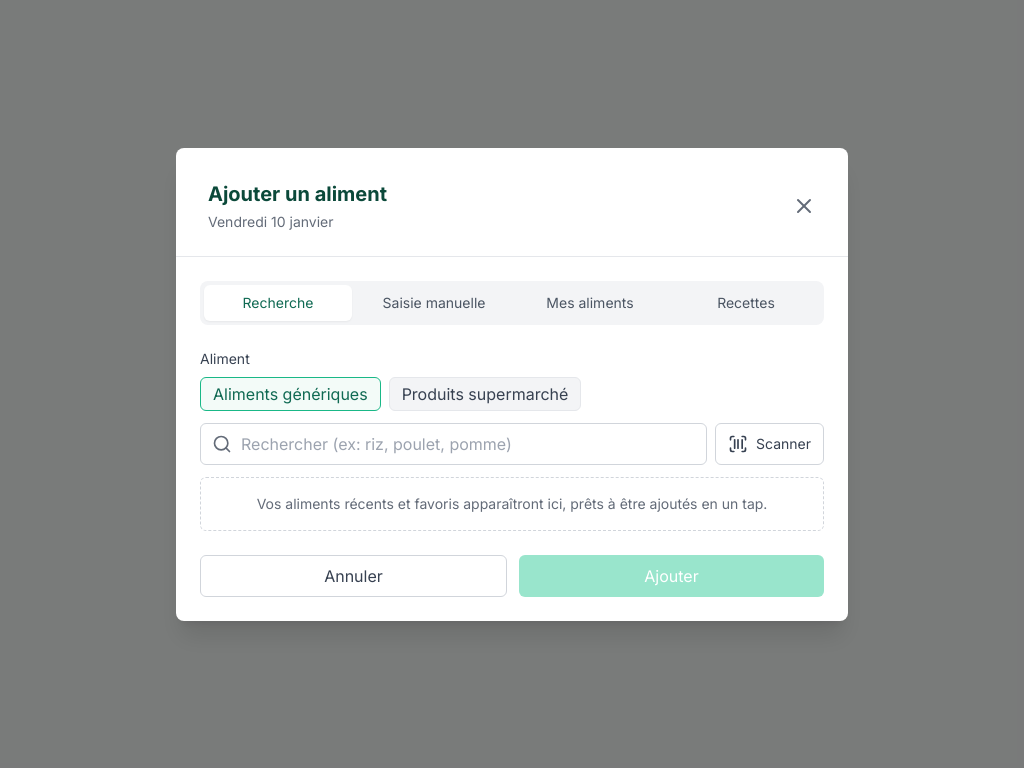
it: AddEntryModal › remonte en haut de la fenêtre pour montrer la confirmation
Click the tab "Saisie manuelle" at (434, 302), box [360,284,508,320]
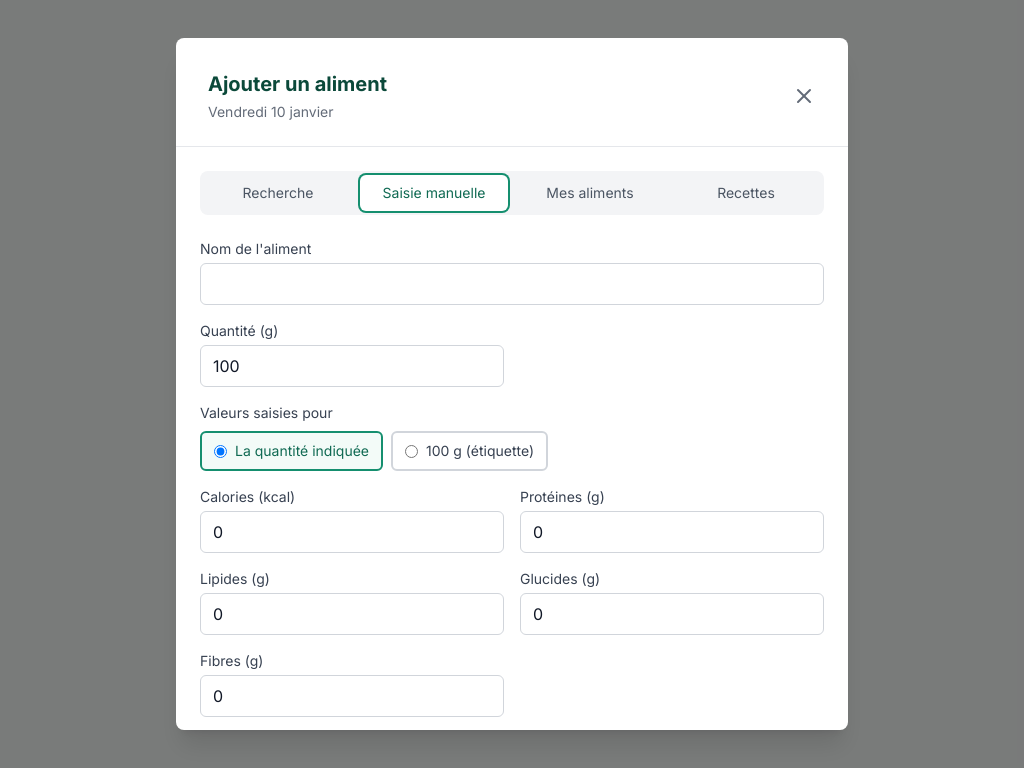
Type "  Salade maison " into the field labelled "Nom de l'aliment" at (512, 284), box [200,263,824,305]
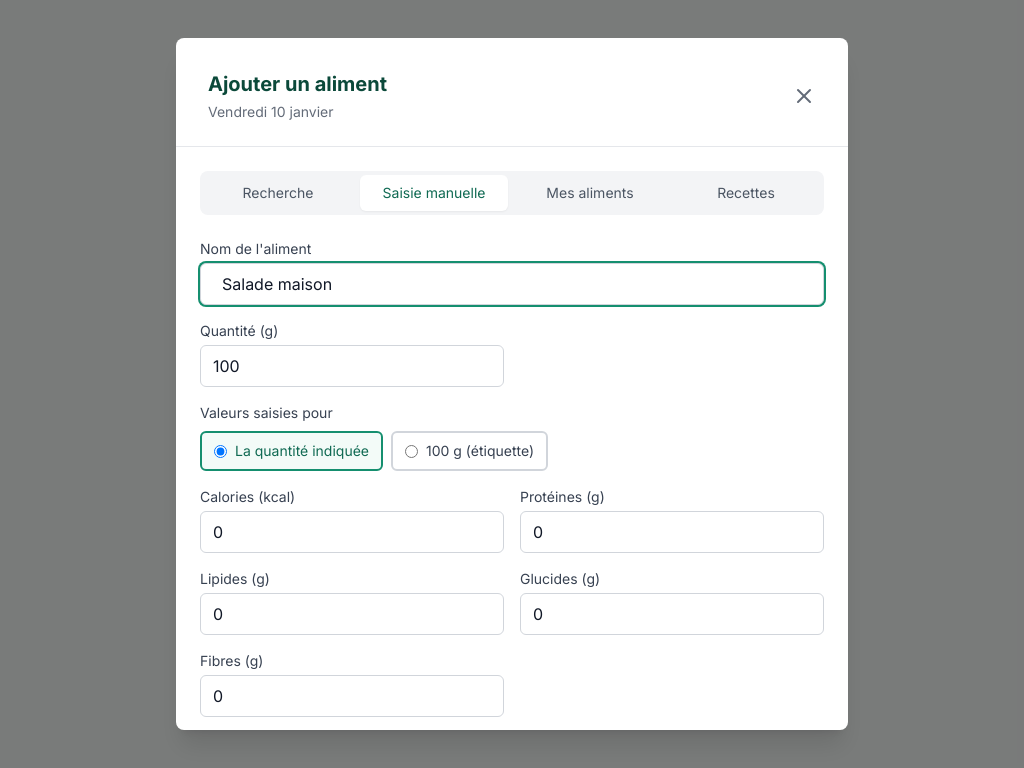
Replace the text in the number field labelled "Quantité (g)" with "250" at (352, 366), box [200,345,504,387]
Replace the text in the number field labelled "Calories (kcal)" with "320" at (352, 532), box [200,511,504,553]
Replace the text in the number field labelled "Protéines (g)" with "12.5" at (672, 532), box [520,511,824,553]
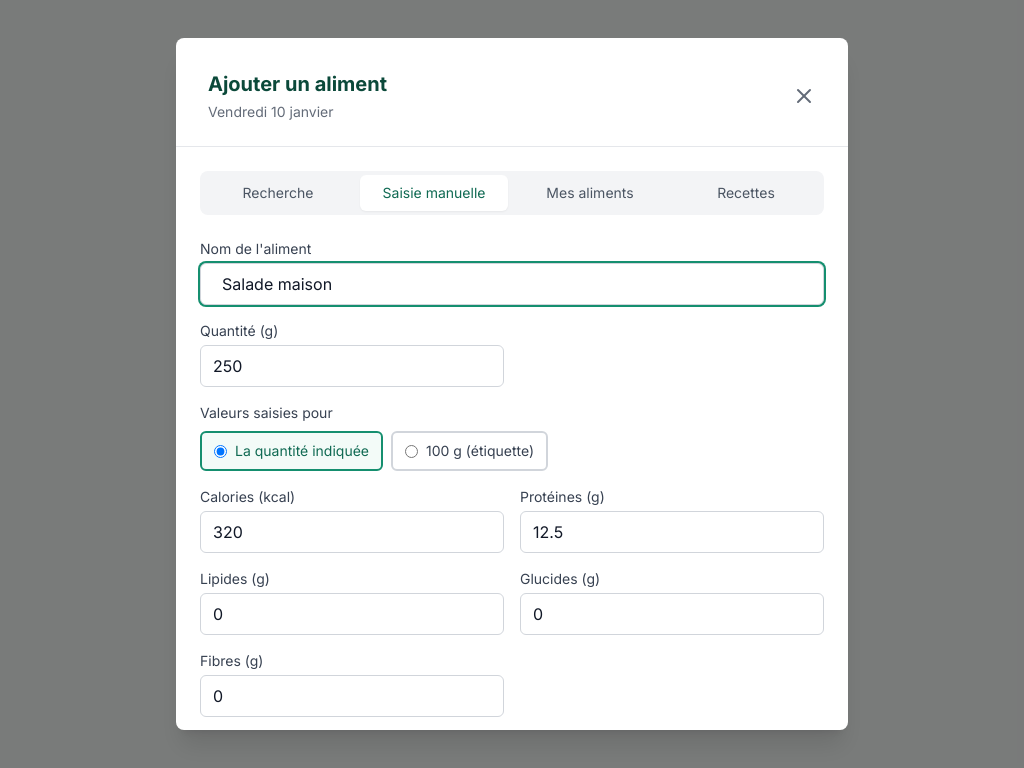
Replace the text in the number field labelled "Lipides (g)" with "18" at (352, 614), box [200,593,504,635]
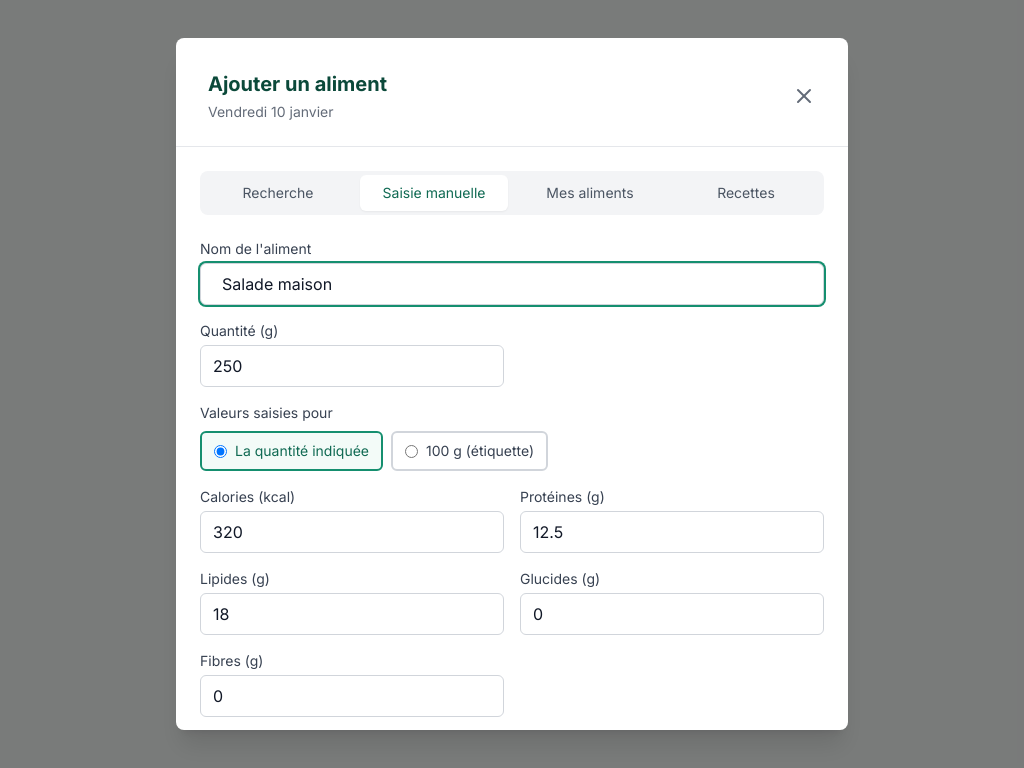
Replace the text in the number field labelled "Glucides (g)" with "25" at (672, 614), box [520,593,824,635]
(page scrolled)
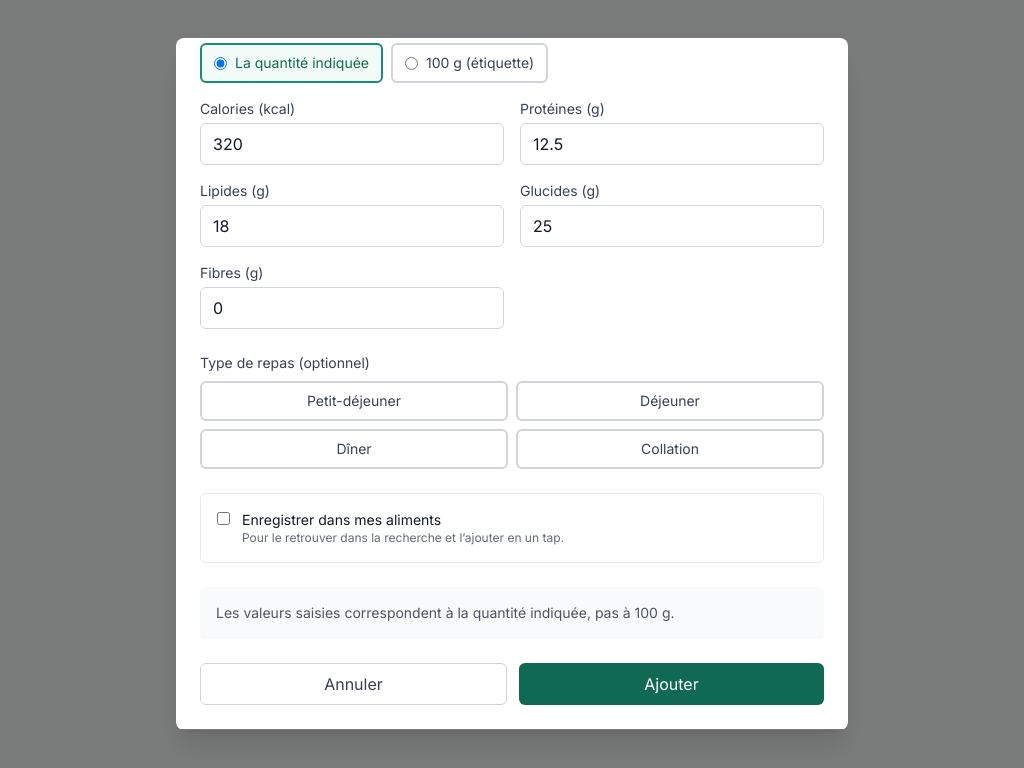
Click the button "Ajouter" at (672, 684), box [519,663,824,705]
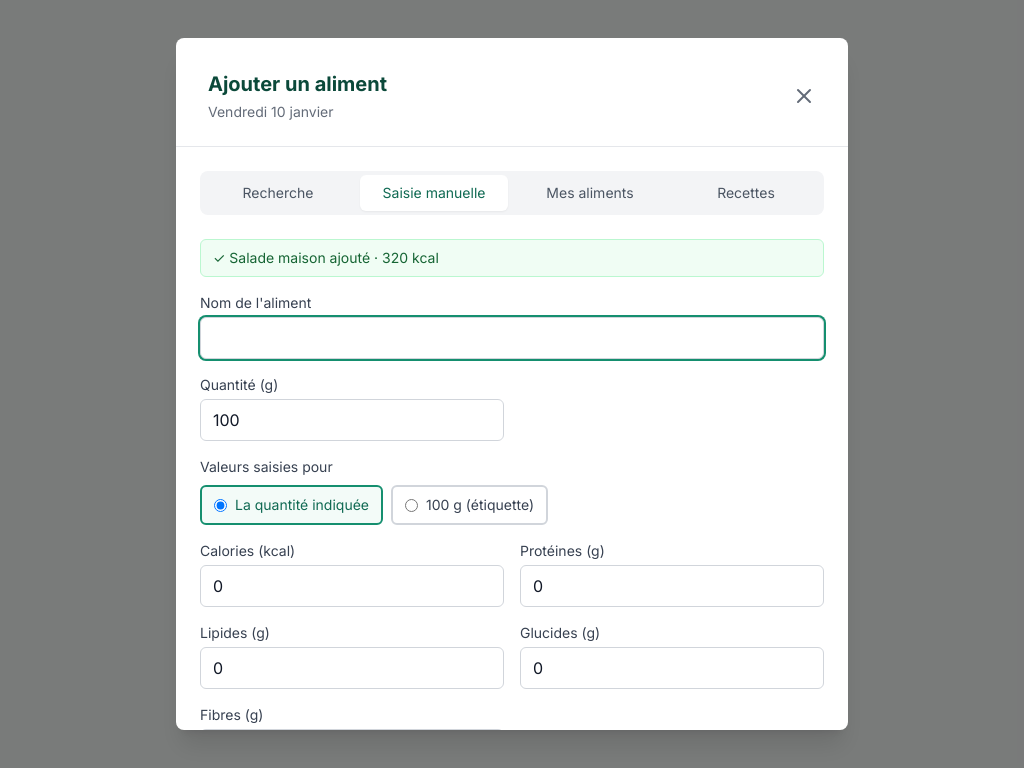
Expected: the message "✓ Salade maison ajouté · 320 kcal" is shown, [200,239,824,277]
